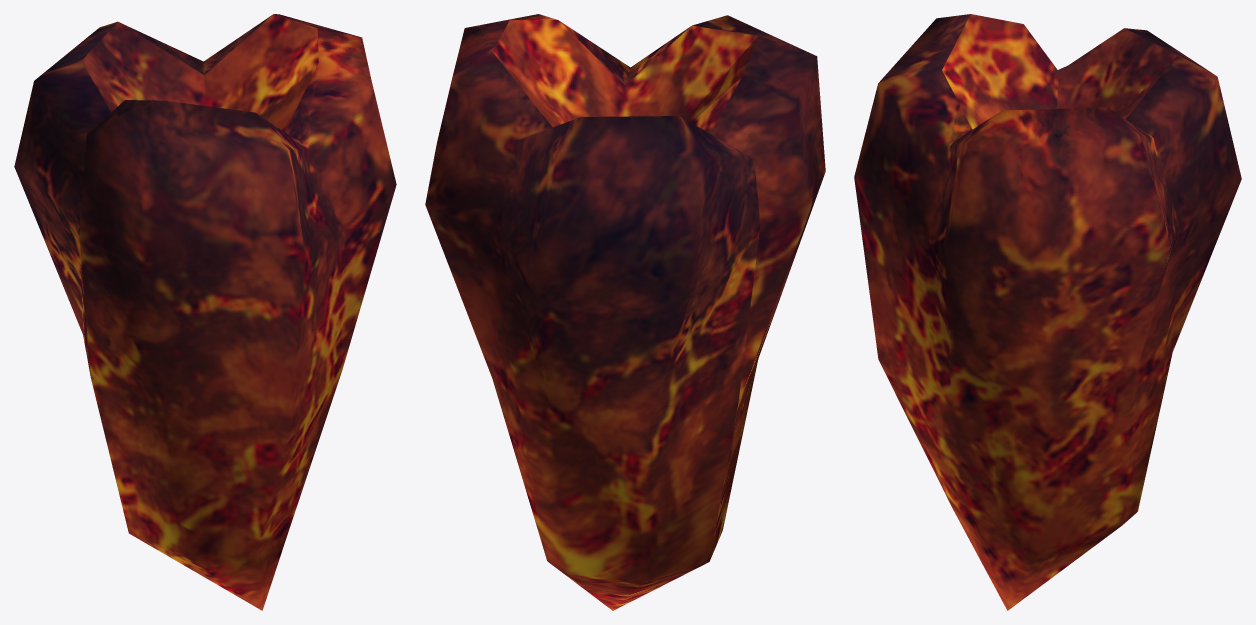
Rendered from Scene_rongyan_018_p1.FBX.
The picture shows the model from 3 angles, left to right: view 1: azimuth 30°, elevation 25°; view 2: azimuth 150°, elevation 25°; view 3: azimuth 270°, elevation 25°; orthographic projection. The views are drawn at different scales.
Visible parts, largest first — view 1: Scene_rongyan_018_p1; view 2: Scene_rongyan_018_p1; view 3: Scene_rongyan_018_p1.
Part boxes in pixels (x1,y1,x2,y2): Scene_rongyan_018_p1: (14, 14, 396, 610); Scene_rongyan_018_p1: (425, 14, 825, 610); Scene_rongyan_018_p1: (854, 14, 1241, 610).
Bounding box in the file's own units: 3.35 × 5.43 × 3.53.
